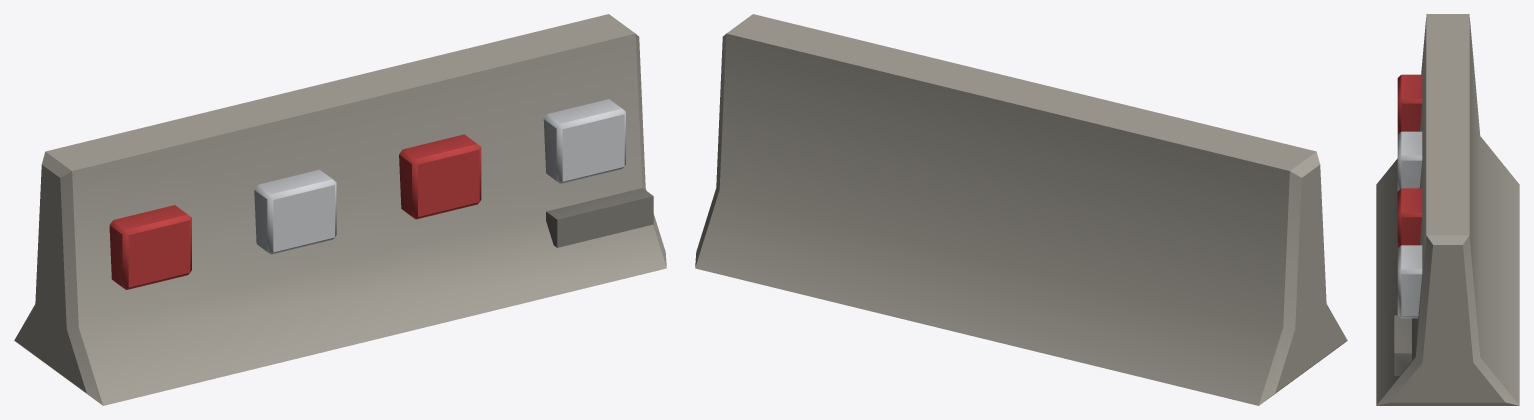
File: sv_barrier.glb
The picture shows the model from 3 angles, left to right: view 1: azimuth 30°, elevation 25°; view 2: azimuth 150°, elevation 25°; view 3: azimuth 270°, elevation 25°; orthographic projection. The views are drawn at different scales.
Parts seen in each view (by area): view 1: body; view 2: body; view 3: body.
Boxes of the visible parts, box(x1,y1,x2,y2) form: body: box(14, 14, 666, 405); body: box(695, 14, 1347, 405); body: box(1376, 14, 1519, 405).
Size of the model in its own units: 3 by 1.05 by 0.8.
